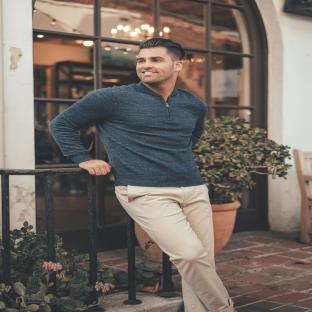Human: (50, 38, 236, 312)
